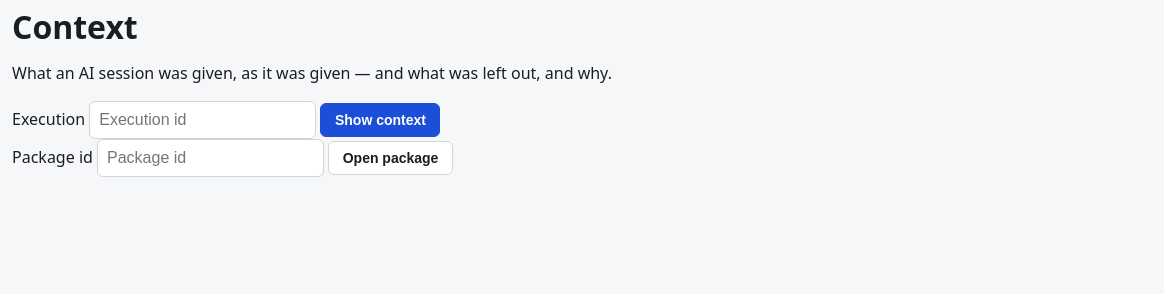
Test: T1268 · the Context screen › shows the error state when the read fails, rather than an empty list
This screenshot has width=1164, height=294.
Step 1. Type "ex_1" into the field labelled "Execution" → (203, 120), box [89, 101, 316, 139]
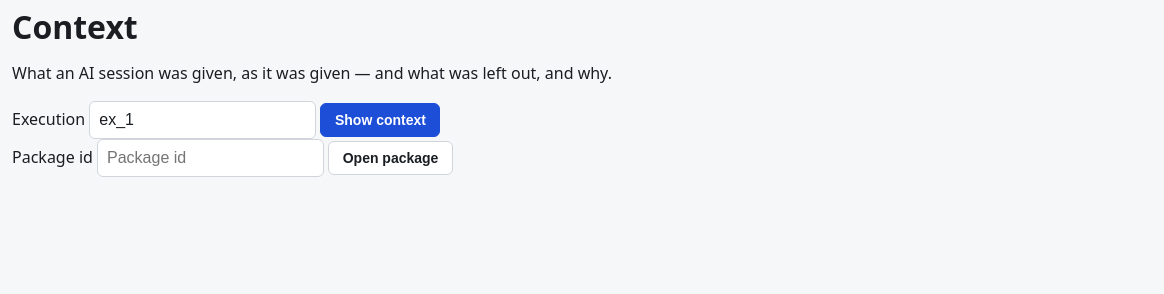
Step 2. Click the button "Show context" → (380, 120), box [320, 103, 440, 137]
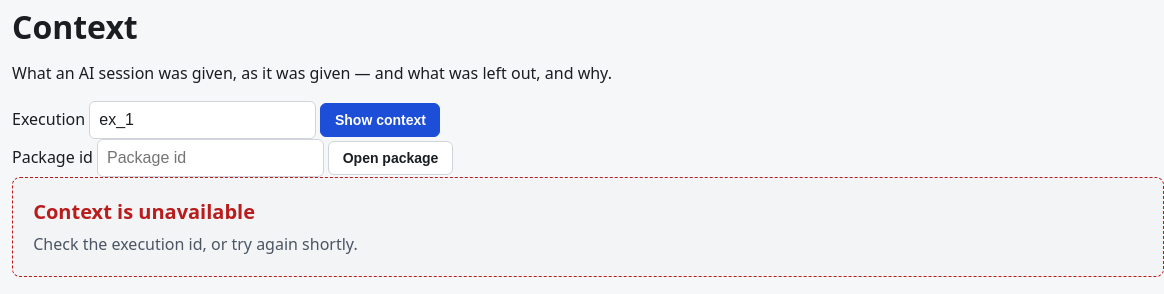
Check: the text "Context is unavailable" is shown, box [33, 198, 255, 226]
